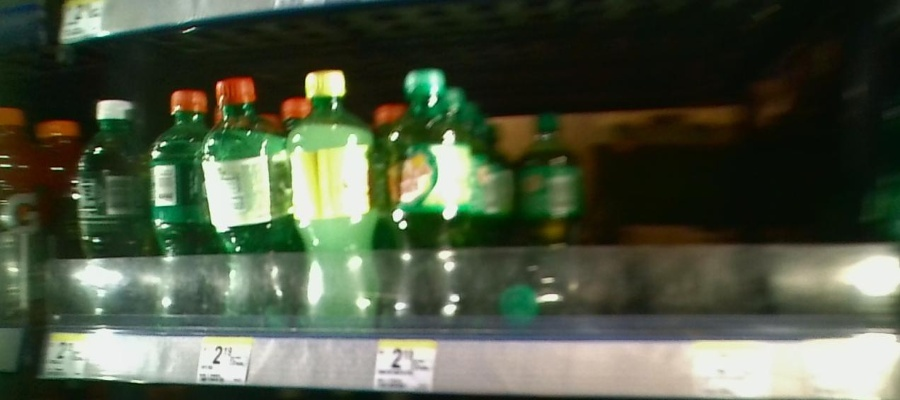bottle: (383, 63, 472, 328), (290, 64, 377, 334), (204, 73, 288, 327), (72, 90, 144, 331), (144, 80, 204, 330), (514, 108, 583, 284)
